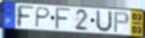2: (75, 8, 89, 32)
F: (15, 4, 35, 29), (54, 8, 73, 31)
P: (34, 6, 52, 29), (113, 11, 131, 34)
U: (94, 9, 113, 33)
